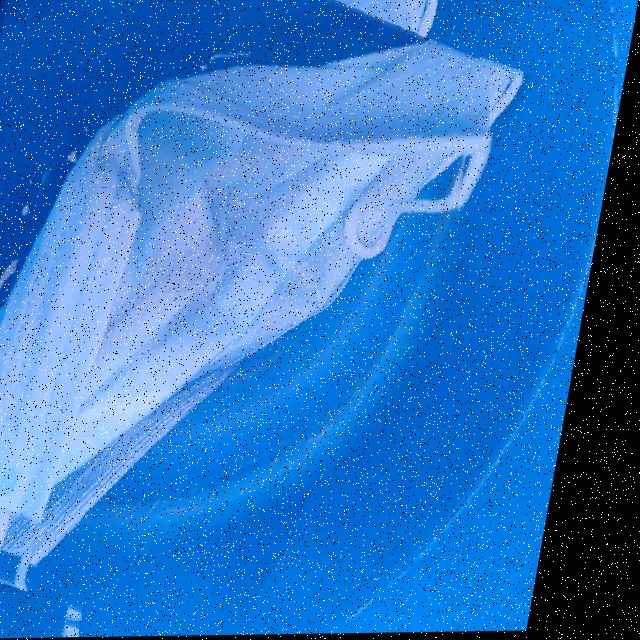mask: (0, 0, 501, 640)
